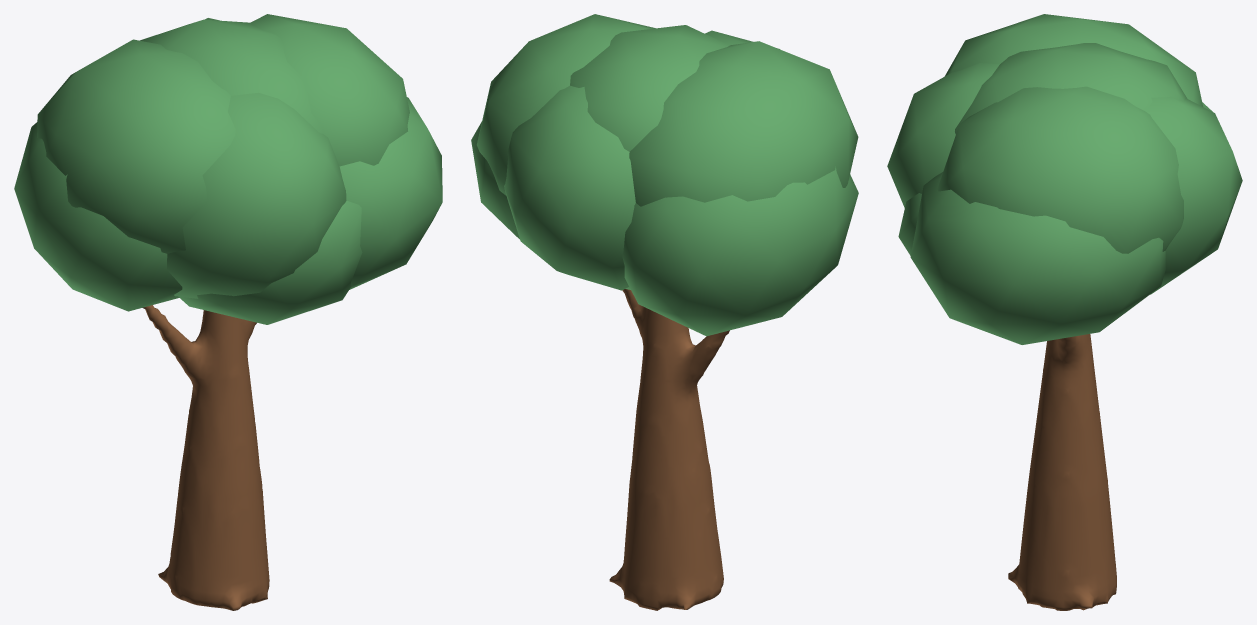
File: NaturalTree_08_Compact.fbx
3 renders of one model, left to right at view 1: azimuth 30°, elevation 25°; view 2: azimuth 150°, elevation 25°; view 3: azimuth 270°, elevation 25°, orthographic. The views are drawn at different scales.
Visible parts, largest first — view 1: Foliage_01.007, Trunk.007, Foliage_03.007, Foliage_05.007, Foliage_02.007, Foliage_06.007, Foliage_00.007, Foliage_07.006; view 2: Foliage_01.007, Foliage_05.007, Trunk.007, Foliage_04.007, Foliage_00.007, Foliage_02.007, Foliage_06.007; view 3: Foliage_02.007, Foliage_06.007, Trunk.007, Foliage_04.007, Foliage_00.007, Foliage_01.007, Foliage_03.007, Foliage_07.006.
Boxes of the visible parts, left/top/right/bottom form: Foliage_01.007: left=37, top=39, right=235, bottom=253; Trunk.007: left=142, top=305, right=269, bottom=610; Foliage_03.007: left=167, top=92, right=346, bottom=298; Foliage_05.007: left=14, top=122, right=182, bottom=311; Foliage_02.007: left=250, top=14, right=409, bottom=166; Foliage_06.007: left=339, top=97, right=442, bottom=289; Foliage_00.007: left=140, top=19, right=323, bottom=133; Foliage_07.006: left=179, top=200, right=362, bottom=324; Foliage_01.007: left=629, top=41, right=858, bottom=206; Foliage_05.007: left=622, top=166, right=858, bottom=336; Trunk.007: left=609, top=289, right=729, bottom=610; Foliage_04.007: left=504, top=85, right=635, bottom=290; Foliage_00.007: left=570, top=25, right=729, bottom=151; Foliage_02.007: left=476, top=14, right=655, bottom=195; Foliage_06.007: left=471, top=121, right=519, bottom=239; Foliage_02.007: left=937, top=86, right=1183, bottom=253; Foliage_06.007: left=910, top=172, right=1165, bottom=344; Trunk.007: left=1008, top=334, right=1116, bottom=610; Foliage_04.007: left=1145, top=96, right=1242, bottom=294; Foliage_00.007: left=955, top=43, right=1187, bottom=134; Foliage_01.007: left=944, top=14, right=1203, bottom=106; Foliage_03.007: left=887, top=63, right=999, bottom=207; Foliage_07.006: left=898, top=193, right=921, bottom=255.
Size of the model in its own units: 1.81 by 2.59 by 1.54.
